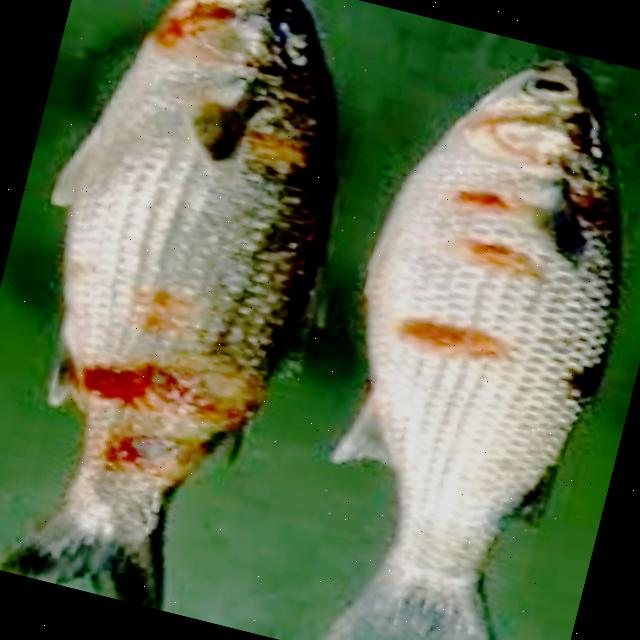Edwardsiella Ictaluri -Bacterial Red Disease-: (2, 0, 336, 608), (330, 62, 619, 640)
